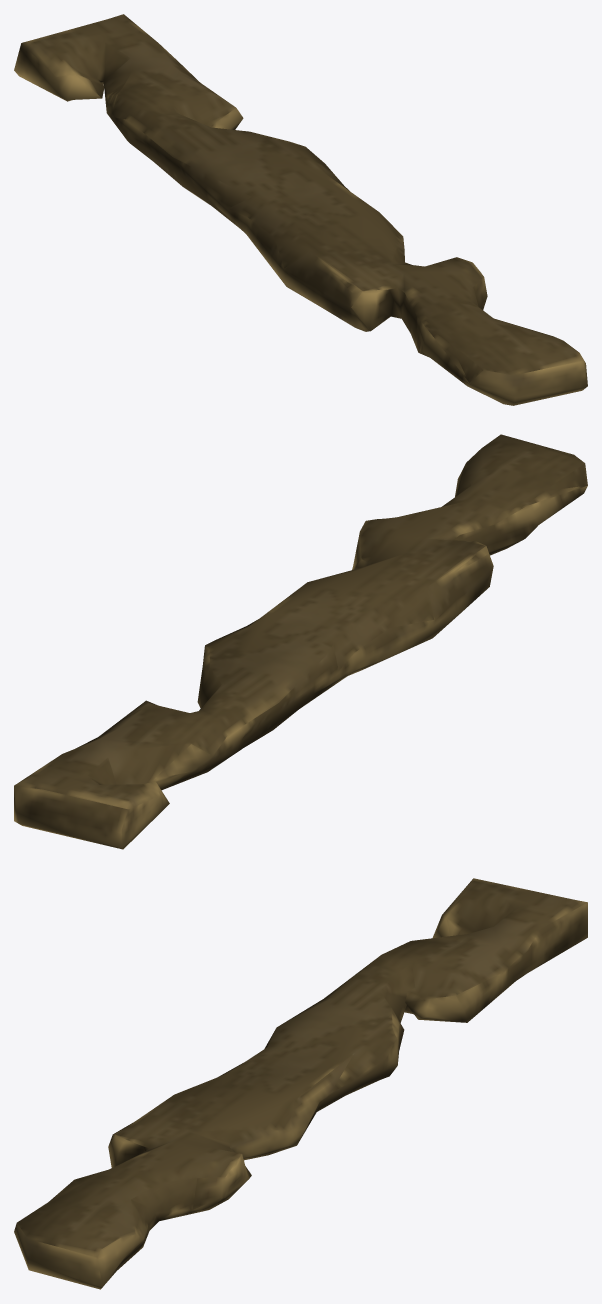
File: board_01.fbx
3 views of the same model, one above another, from view 1: azimuth 30°, elevation 25°; view 2: azimuth 150°, elevation 25°; view 3: azimuth 330°, elevation 25° (orthographic). The views are drawn at different scales.
Visible parts, largest first — view 1: Cylinder.004; view 2: Cylinder.004; view 3: Cylinder.004.
Part boxes in pixels (<box>): Cylinder.004: <box>14,14,587,405</box>; Cylinder.004: <box>14,434,587,849</box>; Cylinder.004: <box>14,878,587,1289</box>.
Bounding box in the file's own units: 93.94 × 33.43 × 584.
